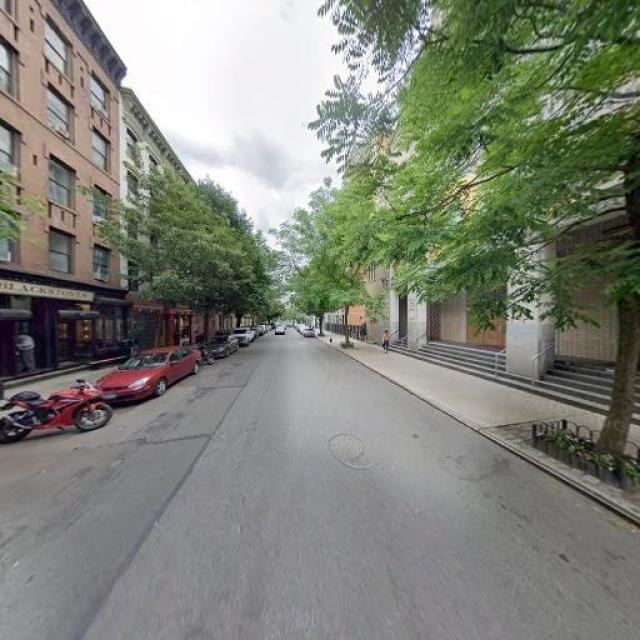Building: (390, 1, 640, 419), (1, 1, 117, 393)
